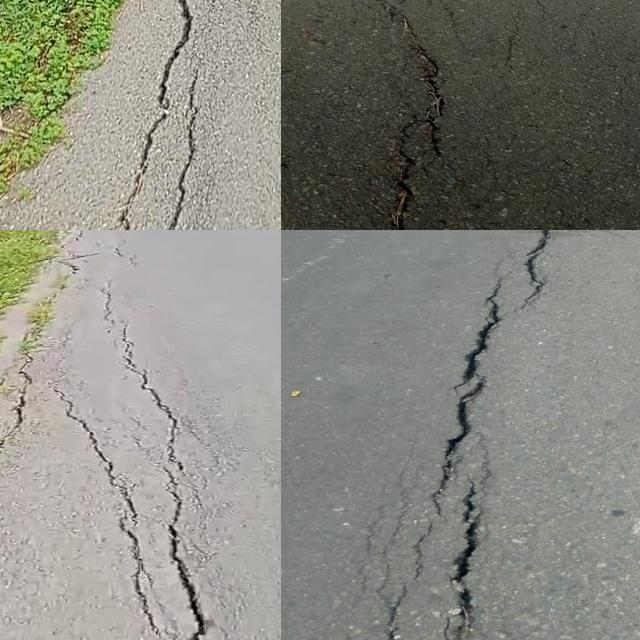Memanjang: (420, 230, 578, 640), (92, 296, 216, 640), (49, 387, 176, 640), (111, 0, 228, 230), (377, 0, 461, 230)
